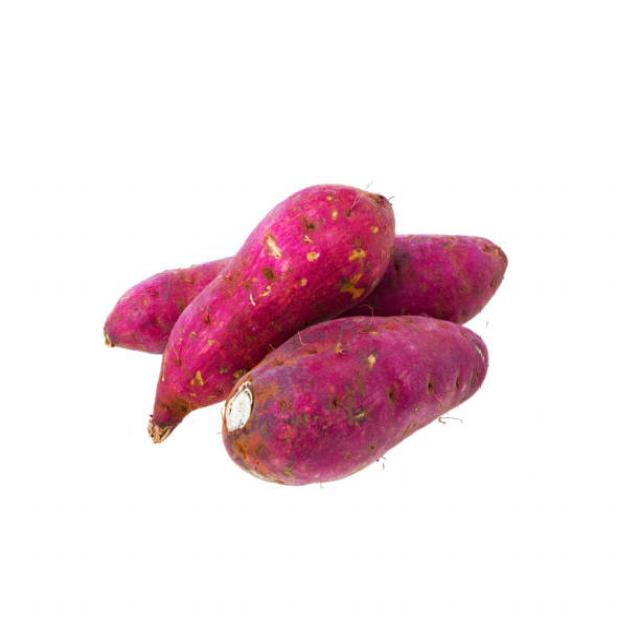Sweet Potato: (250, 314, 489, 482), (222, 182, 402, 316), (148, 309, 224, 443), (400, 232, 511, 316), (99, 268, 192, 349)
